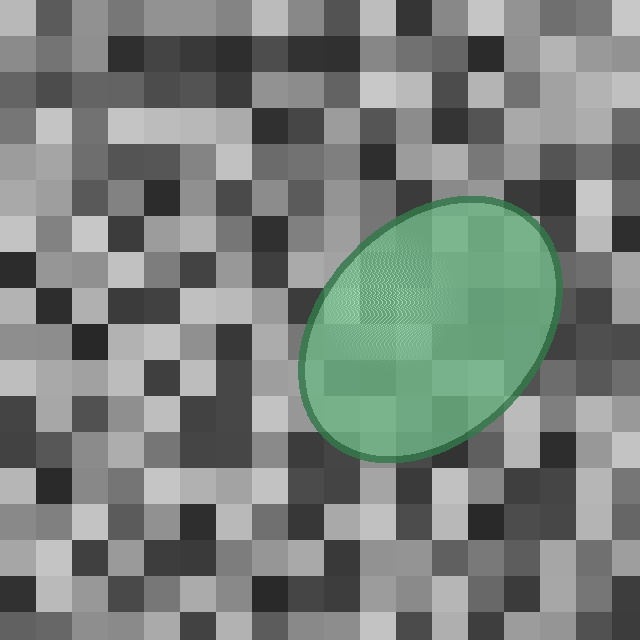lens: (302, 199, 558, 459)
